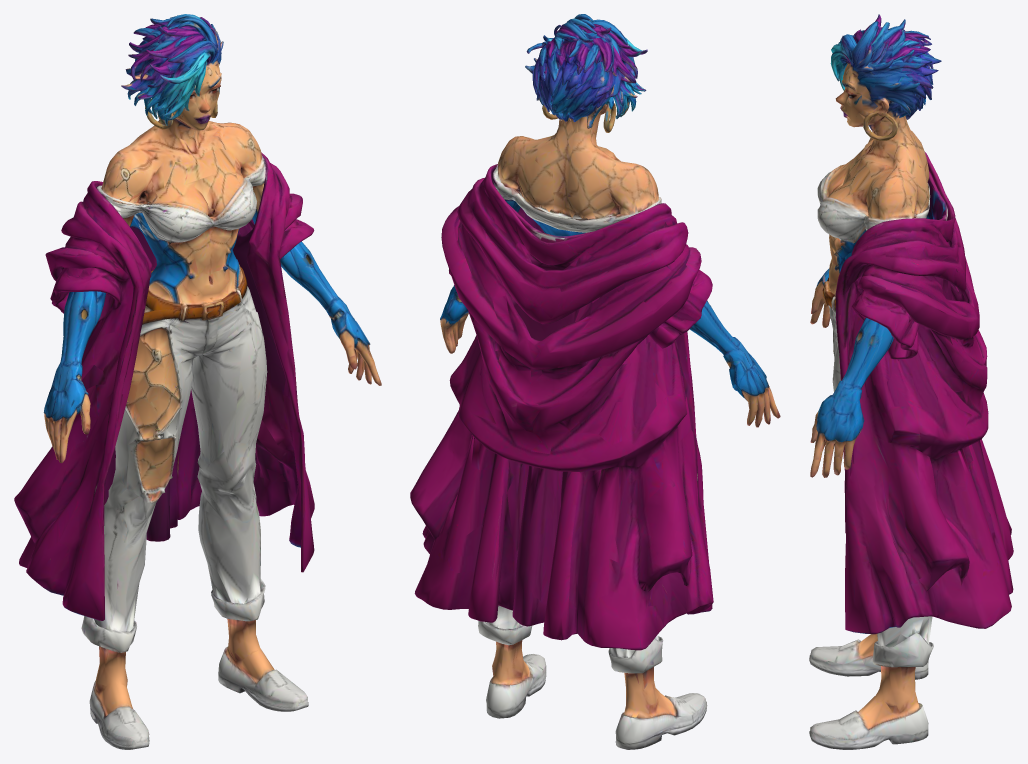
File: Nyx.glb
3 renders of one model, left to right at view 1: azimuth 30°, elevation 25°; view 2: azimuth 150°, elevation 25°; view 3: azimuth 270°, elevation 25°, orthographic. The views are drawn at different scales.
Parts seen in each view (by area): view 1: Mesh_0; view 2: Mesh_0; view 3: Mesh_0.
Part boxes in pixels (<box>): Mesh_0: <box>14,14,381,749</box>; Mesh_0: <box>410,14,780,749</box>; Mesh_0: <box>809,14,1013,749</box>.
Size of the model in its own units: 0.9248 by 1.9 by 0.5172.
Materials: 1 (1 with a texture image).
